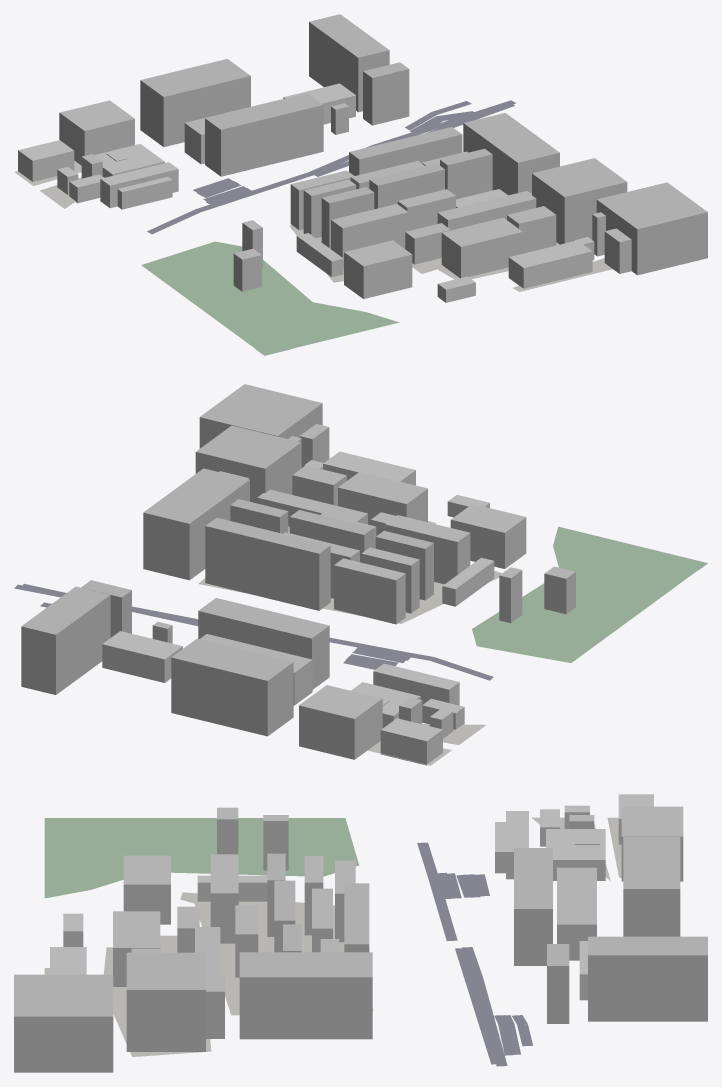
Rendered from 125_89_mid.glb.
The picture shows the model from 3 angles, top to bottom: view 1: azimuth 30°, elevation 25°; view 2: azimuth 150°, elevation 25°; view 3: azimuth 270°, elevation 25°; orthographic projection. The views are drawn at different scales.
Size of the model in its own units: 504 by 63.87 by 568.
